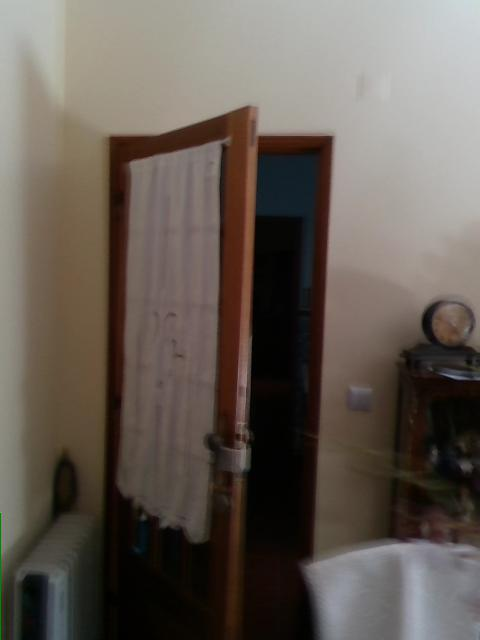semi_door: (102, 102, 335, 639)
